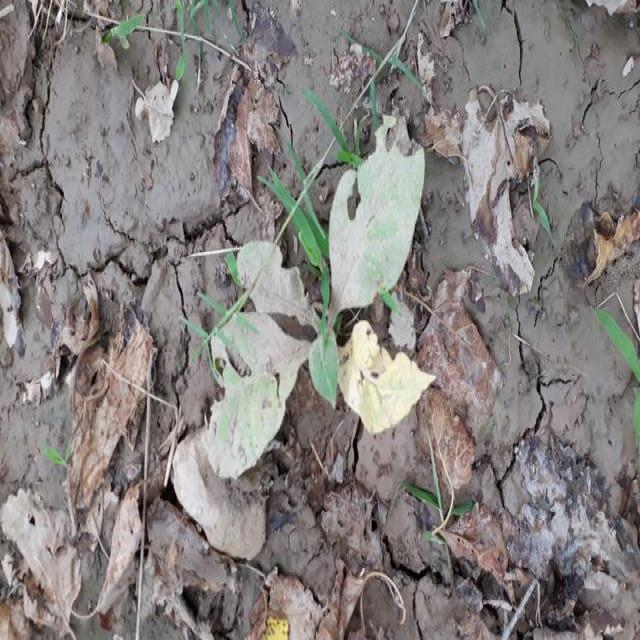crop: (205, 116, 438, 474)
